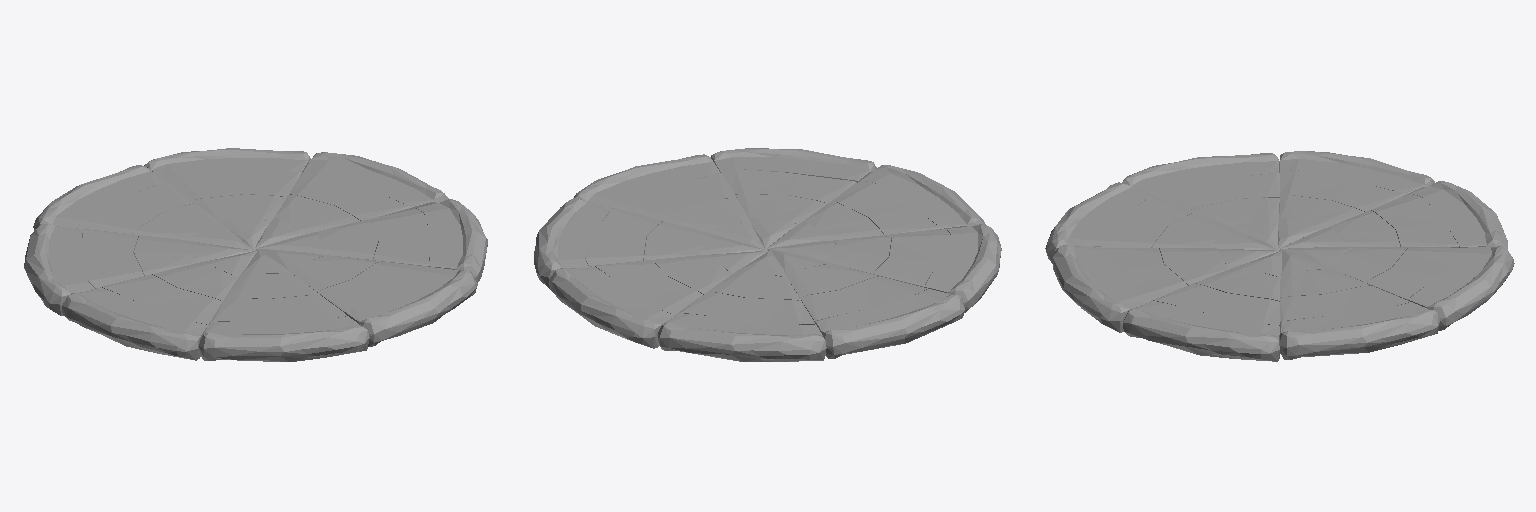
File: pizzaFLo.obj
3 views of the same model, side by side, from view 1: azimuth 30°, elevation 25°; view 2: azimuth 150°, elevation 25°; view 3: azimuth 270°, elevation 25° (orthographic).
Visible parts, largest first — view 1: Pizza_low.016_Group58818.062, Pizza_low.018_Group58818.064, Pizza_low.004_Group58818.050, Pizza_low.020_Group58818.066, Pizza_low.006_Group58818.052, Pizza_low.028_Group58818.074, Pizza_low.024_Group58818.070, Pizza_low.023_Group58818.069, Pizza_low.027_Group58818.073, Pizza_low.026_Group58818.072, Pizza_low.022_Group58818.068, Pizza_low.021_Group58818.067 (+20 smaller); view 2: Pizza_low.023_Group58818.069, Pizza_low.020_Group58818.066, Pizza_low.024_Group58818.070, Pizza_low.018_Group58818.064, Pizza_low.028_Group58818.074, Pizza_low.004_Group58818.050, Pizza_low.016_Group58818.062, Pizza_low.006_Group58818.052, Pizza_low.017_Group58818.063, Pizza_low.027_Group58818.073, Pizza_low.015_Group58818.061, Pizza_low.019_Group58818.065 (+20 smaller); view 3: Pizza_low.028_Group58818.074, Pizza_low.006_Group58818.052, Pizza_low.004_Group58818.050, Pizza_low.024_Group58818.070, Pizza_low.023_Group58818.069, Pizza_low.020_Group58818.066, Pizza_low.018_Group58818.064, Pizza_low.016_Group58818.062, Pizza_low.021_Group58818.067, Pizza_low.019_Group58818.065, Pizza_low.022_Group58818.068, Pizza_low.017_Group58818.063 (+20 smaller).
Part boxes in pixels (x1,y1,x2,y2): Pizza_low.016_Group58818.062: (199,316,369,361); Pizza_low.018_Group58818.064: (62,287,207,360); Pizza_low.004_Group58818.050: (345,268,477,346); Pizza_low.020_Group58818.066: (24,224,94,315); Pizza_low.006_Group58818.052: (416,199,487,282); Pizza_low.028_Group58818.074: (304,152,448,209); Pizza_low.024_Group58818.070: (144,148,310,179); Pizza_low.023_Group58818.069: (33,165,163,230); Pizza_low.027_Group58818.073: (290,171,410,220); Pizza_low.026_Group58818.072: (164,172,301,199); Pizza_low.022_Group58818.068: (78,181,193,233); Pizza_low.021_Group58818.067: (82,229,143,288); Pizza_low.023_Group58818.069: (658,313,826,361); Pizza_low.020_Group58818.066: (815,289,964,358); Pizza_low.024_Group58818.070: (549,266,674,348); Pizza_low.018_Group58818.064: (924,224,1001,312); Pizza_low.028_Group58818.074: (534,198,610,289); Pizza_low.004_Group58818.050: (711,148,876,182); Pizza_low.016_Group58818.062: (861,165,985,229); Pizza_low.006_Group58818.052: (574,154,719,206); Pizza_low.017_Group58818.063: (833,181,940,239); Pizza_low.027_Group58818.073: (586,208,662,266); Pizza_low.015_Group58818.061: (720,169,856,202); Pizza_low.019_Group58818.065: (874,229,949,286); Pizza_low.028_Group58818.074: (1280,302,1439,359); Pizza_low.006_Group58818.052: (1123,301,1279,361); Pizza_low.004_Group58818.050: (1053,245,1148,332); Pizza_low.024_Group58818.070: (1408,246,1514,330); Pizza_low.023_Group58818.069: (1411,181,1507,249); Pizza_low.020_Group58818.066: (1280,151,1434,194); Pizza_low.018_Group58818.064: (1122,153,1279,193); Pizza_low.016_Group58818.062: (1045,182,1150,263); Pizza_low.021_Group58818.067: (1280,170,1406,211); Pizza_low.019_Group58818.065: (1150,173,1279,209); Pizza_low.022_Group58818.068: (1371,194,1458,247); Pizza_low.017_Group58818.063: (1095,195,1193,247).
Size of the model in its own units: 2.33 by 0.1738 by 2.33.